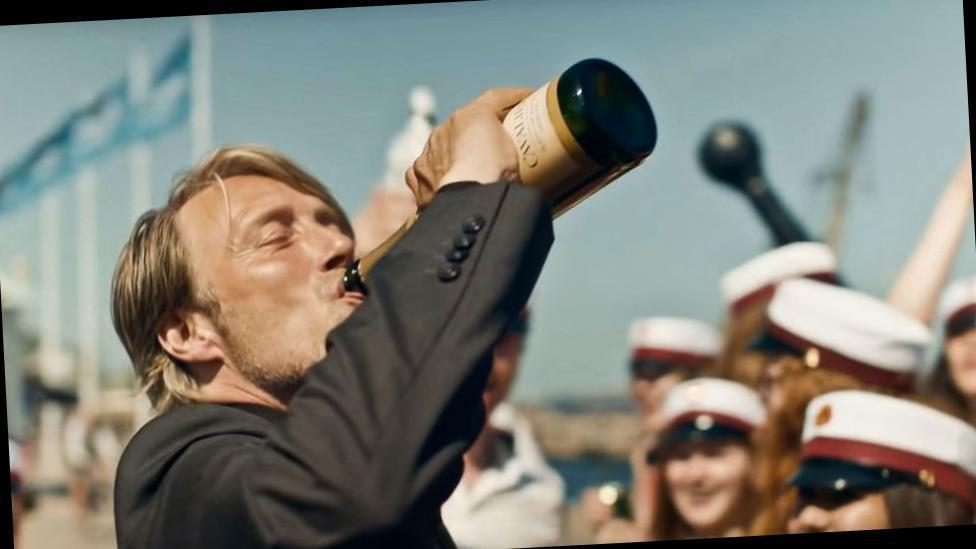Drunk: (213, 179, 364, 367)
